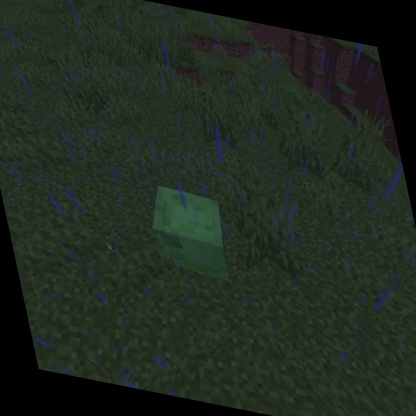slime: (138, 178, 241, 287)
